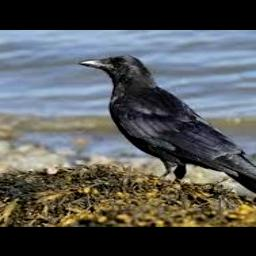Crow: (80, 55, 256, 199)
